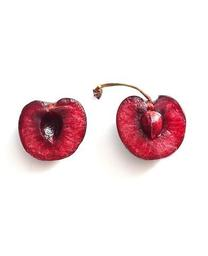cherry: (117, 96, 185, 161), (18, 97, 87, 161)
